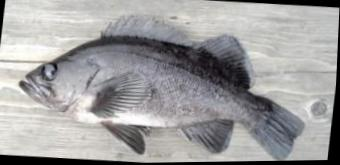fish: (18, 14, 307, 162)
